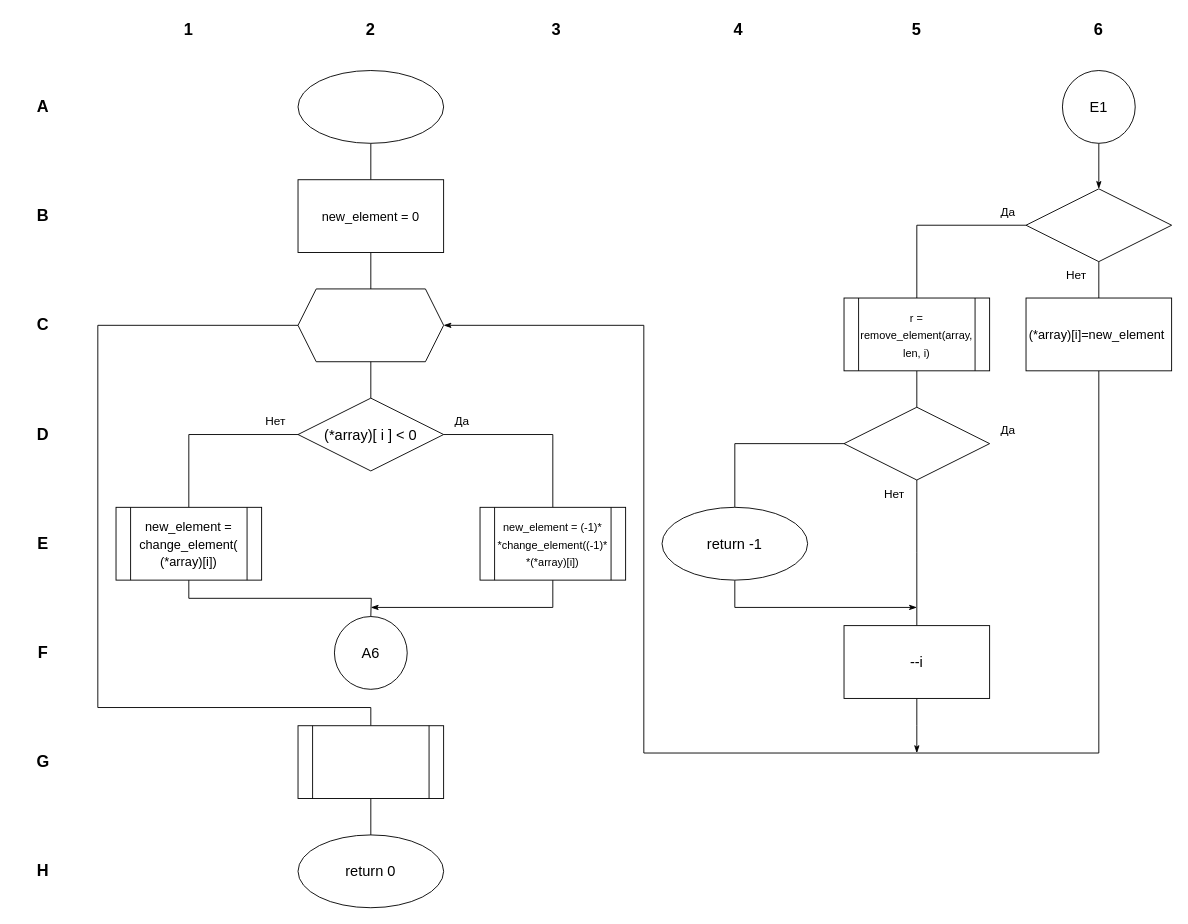
This 1188x924 diagram has some shape labels left out. Here are the shapes that lost their labels. From the top down, the centre of each, then its label:
At [370,106]: "change_array(**array, *len)".
At [1098,225]: "(*array)[ i ] = new_element".
At [370,325]: "i = 0, i < *len, ++i".
At [916,443]: "r == -1".
At [370,762]: "print_array(*array, *len)".
